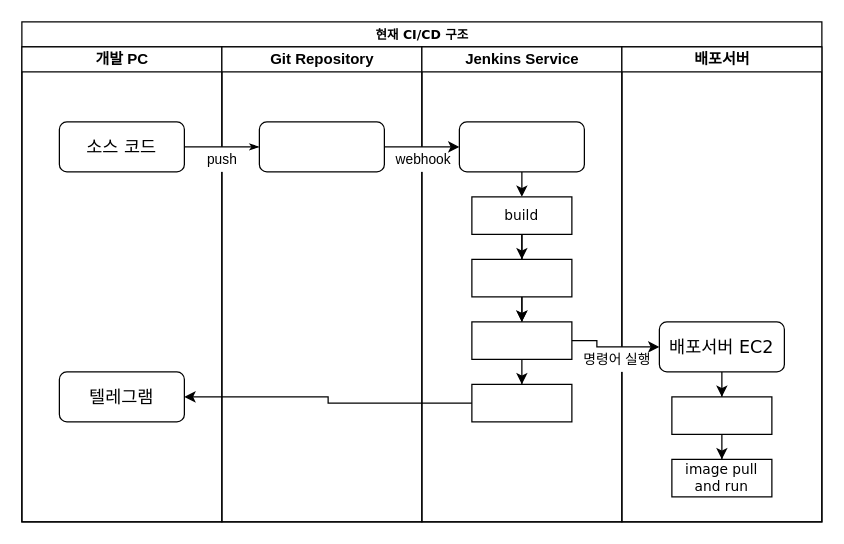
The diagram is 844 pixels wide and 544 high, and some of its shapes have lost their labels. The centre of each missing label's shape, as x and y in pixels:
"deploy" belongs at point 521,340.
"docker image push" belongs at point 521,277.
"file copy" belongs at point 721,415.
"master branch" belongs at point 321,146.
"notice" belongs at point 521,402.
"project" belongs at point 521,146.
"알림 발송" belongs at point 321,383.
